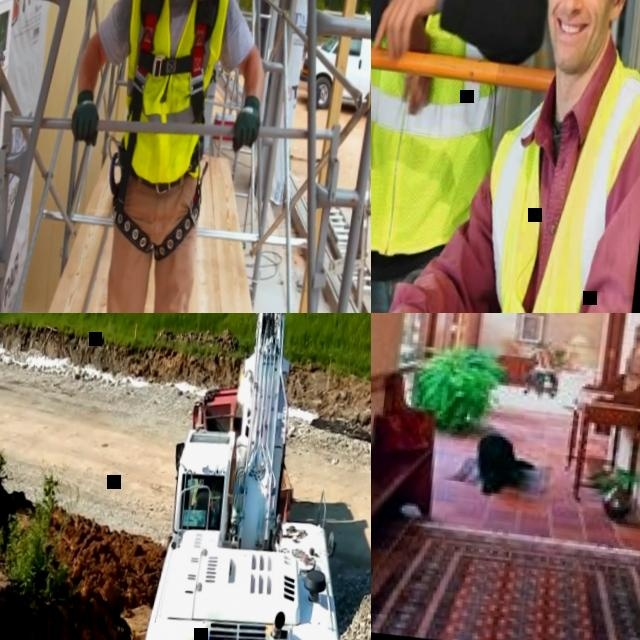NO-Mask: (545, 4, 605, 73)
NO-Safety Vest: (111, 0, 231, 183)
Person: (381, 0, 640, 313), (42, 0, 288, 313), (371, 0, 583, 313)
Safety Vest: (477, 50, 640, 313), (371, 0, 528, 258)
machinery: (130, 313, 371, 640)
